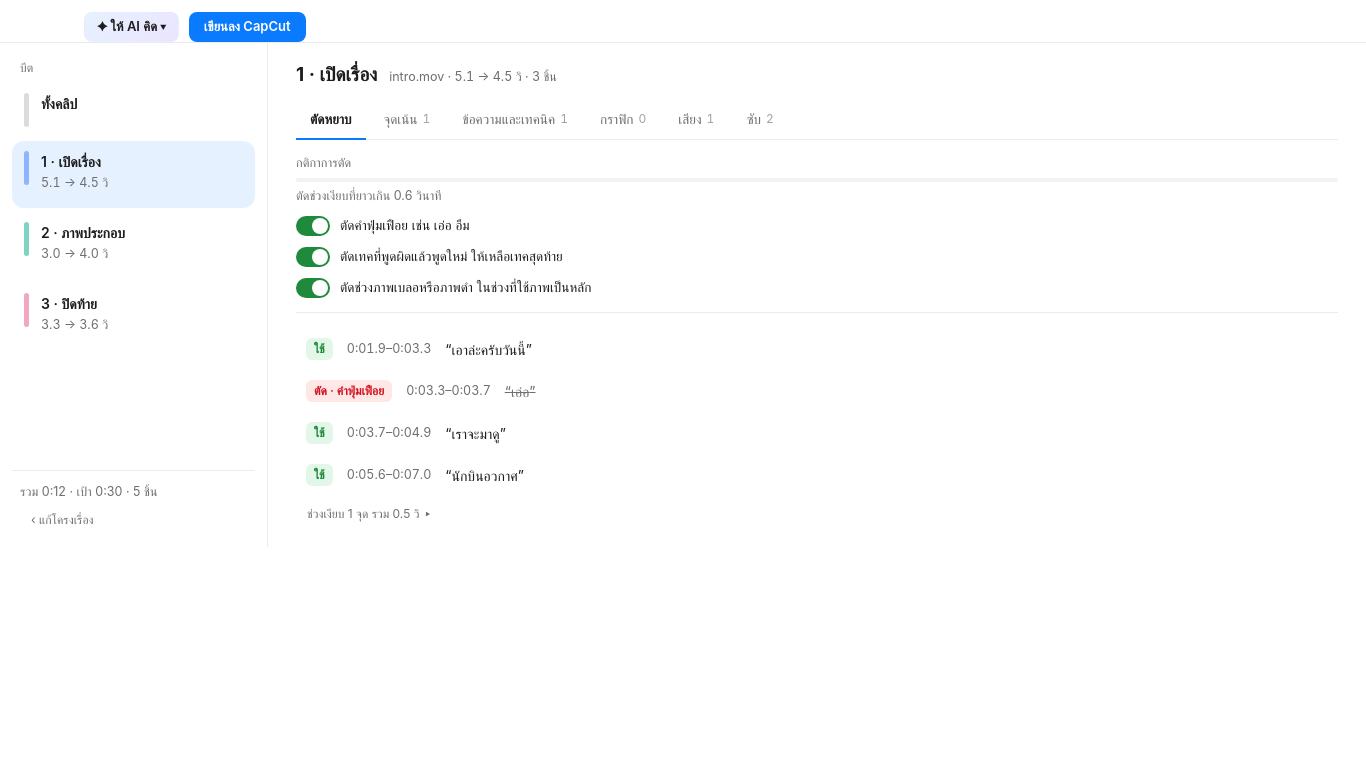
each beat is listed with what it carries for the open tab, and the first is open
The image size is (1366, 780).
Click the tab "ข้อความและเทคนิค 1" at (515, 120), box [448,100,582,140]
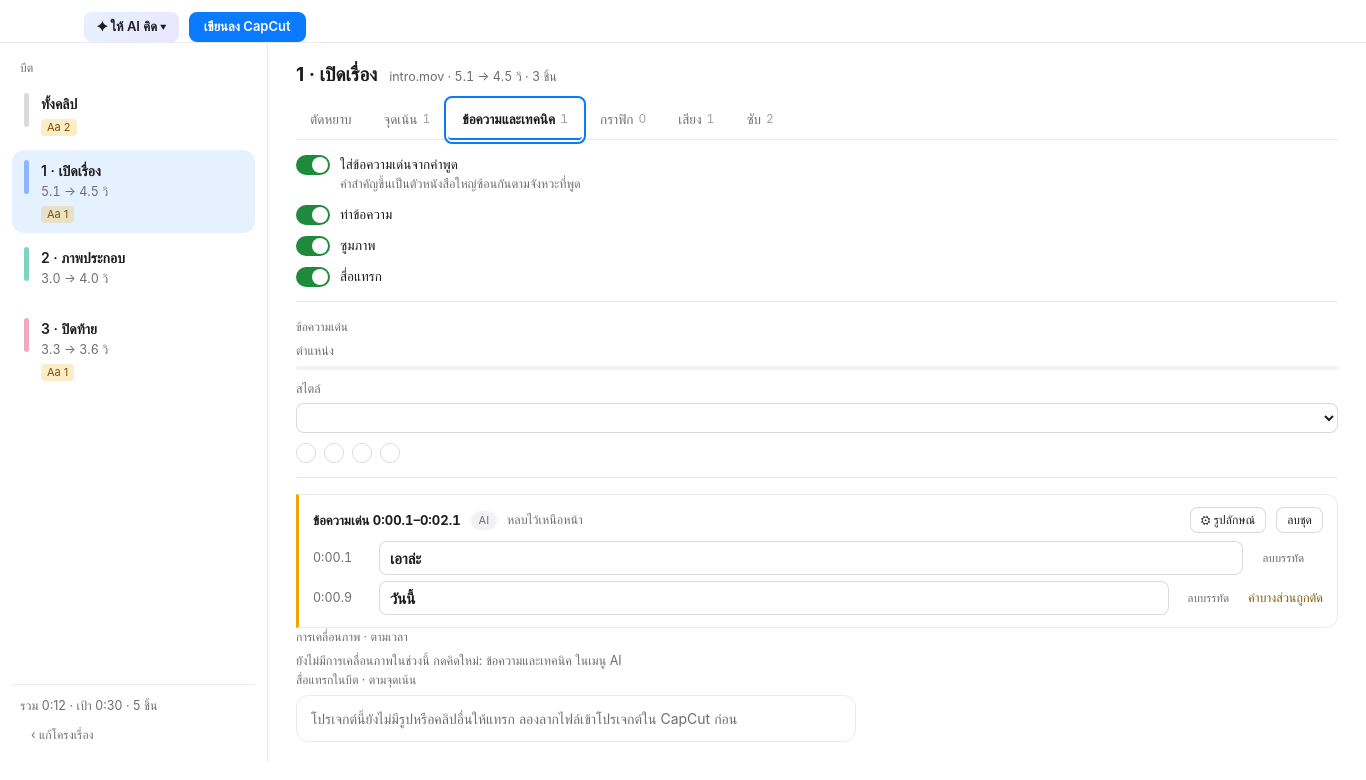
Expected: the text "🔊 1" is not shown
Expected: the 1st text "Aa 1" is shown, [47,207,68,221]
Expected: the 2nd text "Aa 1" is shown, [47,365,68,379]
Click the tab "เสียง 1" at (696, 120), box [664,100,728,140]
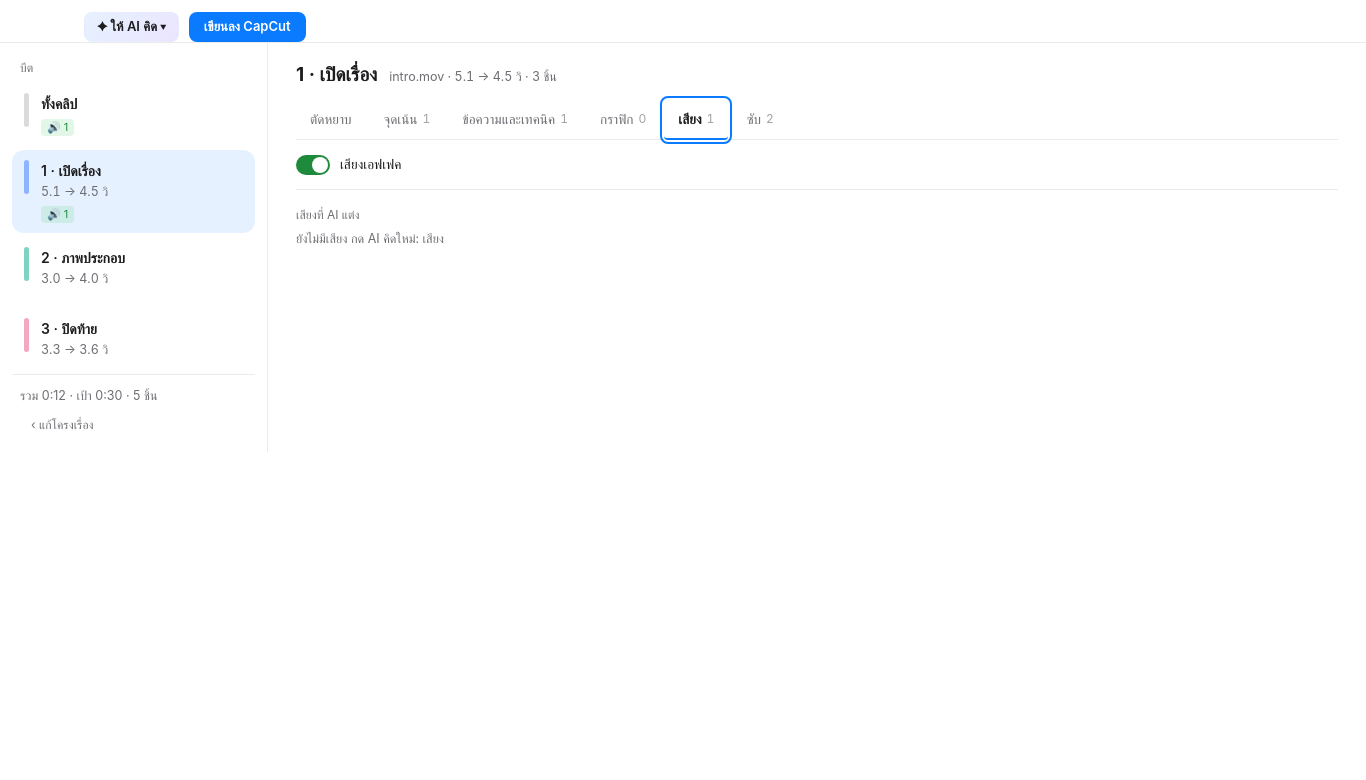
Expected: the 2nd text "🔊 1" is shown, [47,207,68,221]
Expected: the text "Aa 1" is gone
Click the tab "จุดเน้น 1" at (407, 120), box [370,100,444,140]
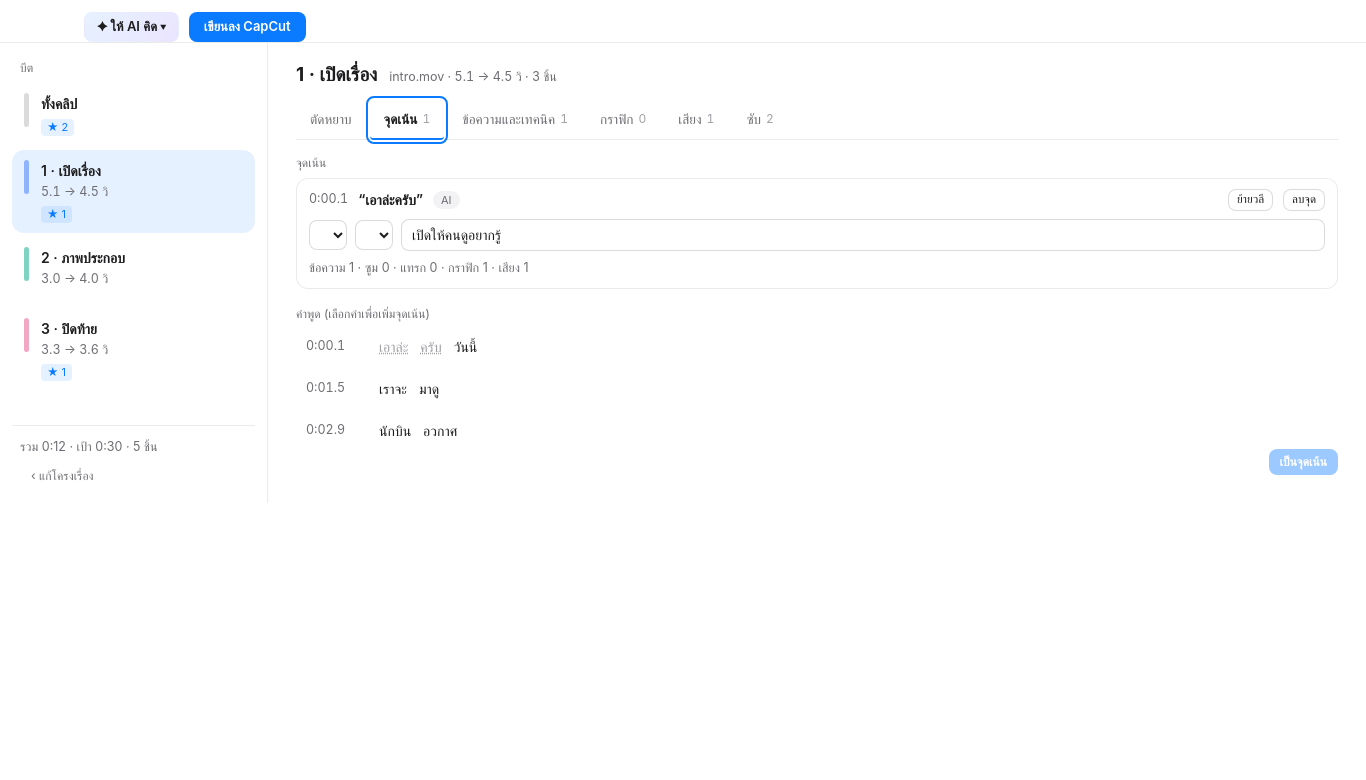
Expected: the 1st text "★ 1" is shown, [47,207,66,221]
Click the tab "ซับ 2" at (760, 120), box [732,100,788,140]
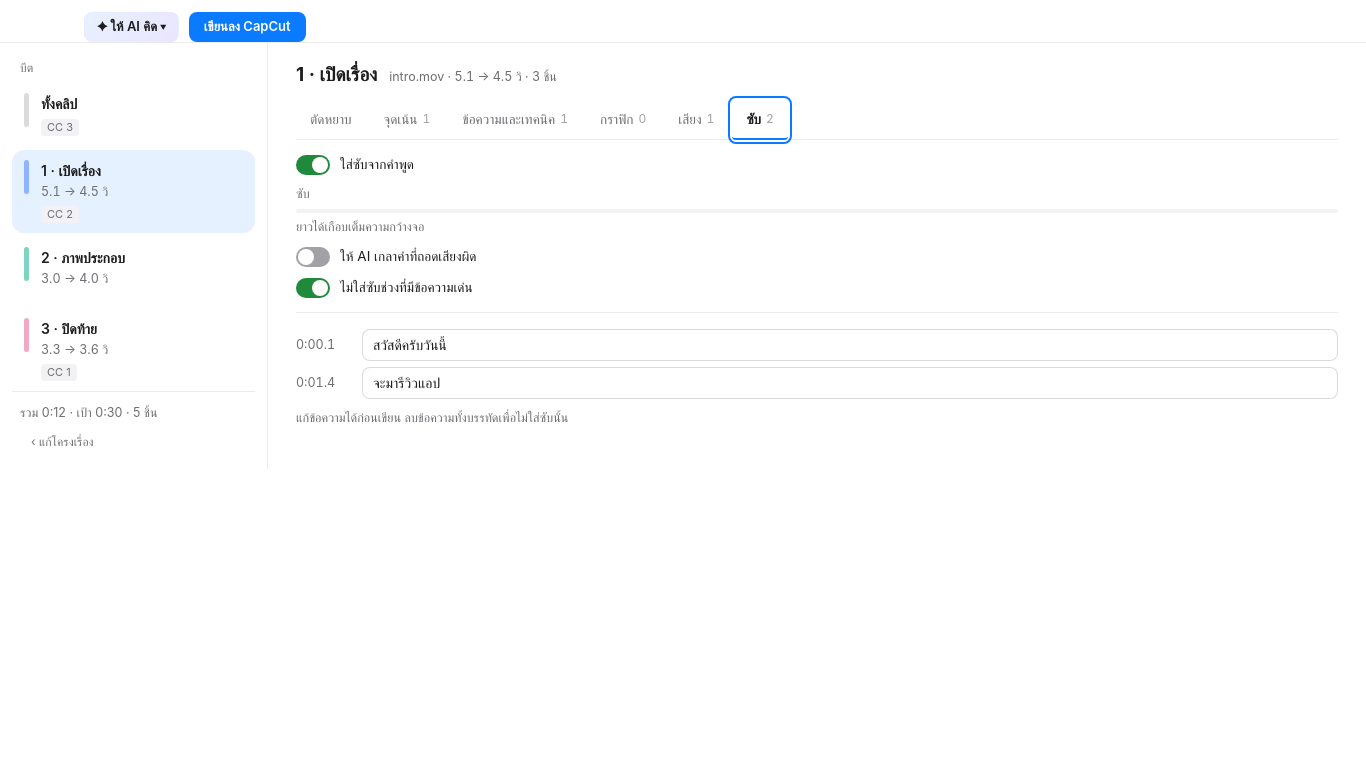
Expected: the text "CC 2" is shown, [47,207,73,221]
Expected: the text "CC 1" is shown, [47,365,71,379]
